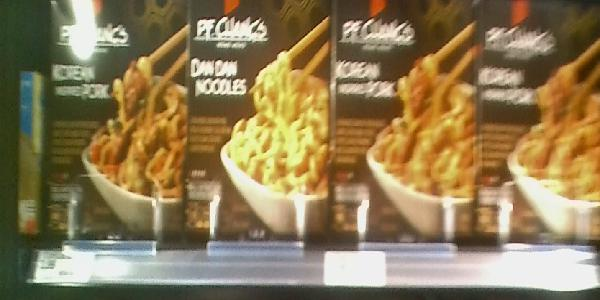pizza1: (330, 1, 476, 235), (186, 1, 329, 238), (48, 1, 186, 244), (477, 1, 597, 244)
